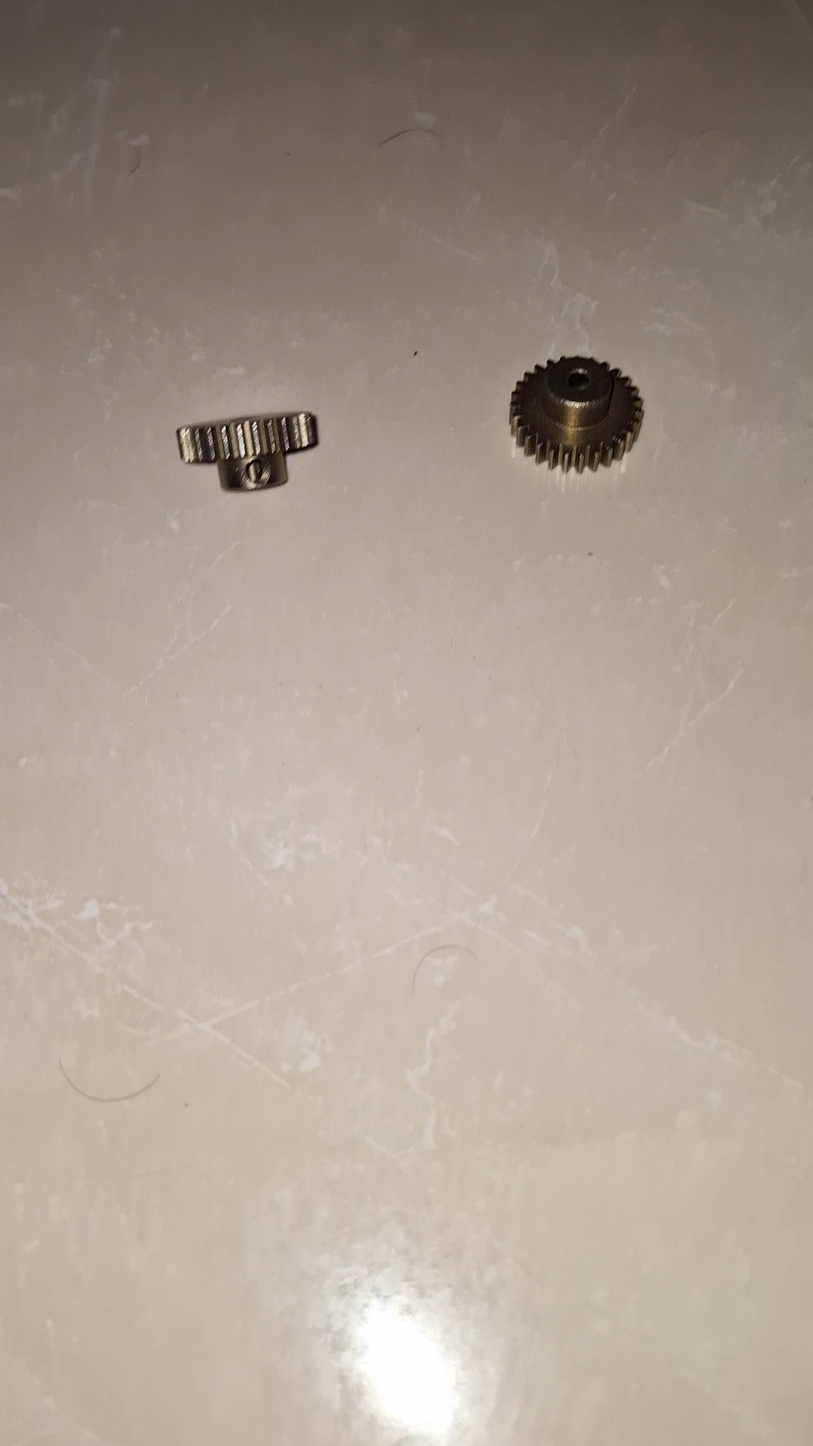spur gear: (510, 357, 643, 472), (177, 412, 316, 490)
